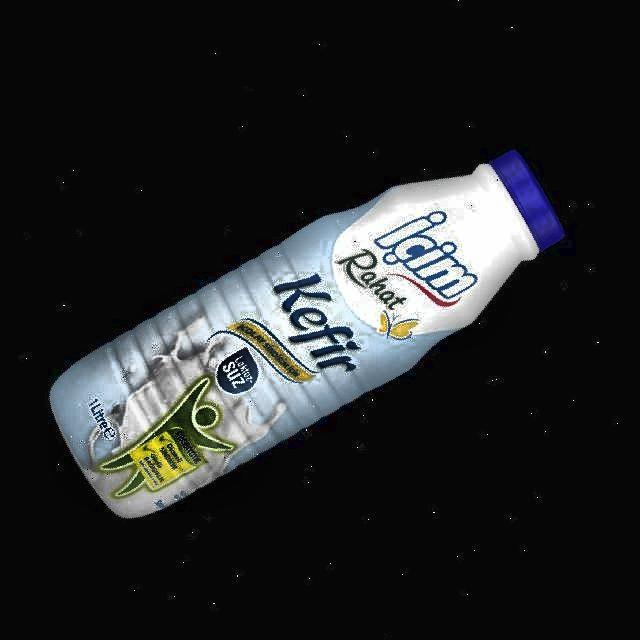plastic: (50, 151, 564, 517)
